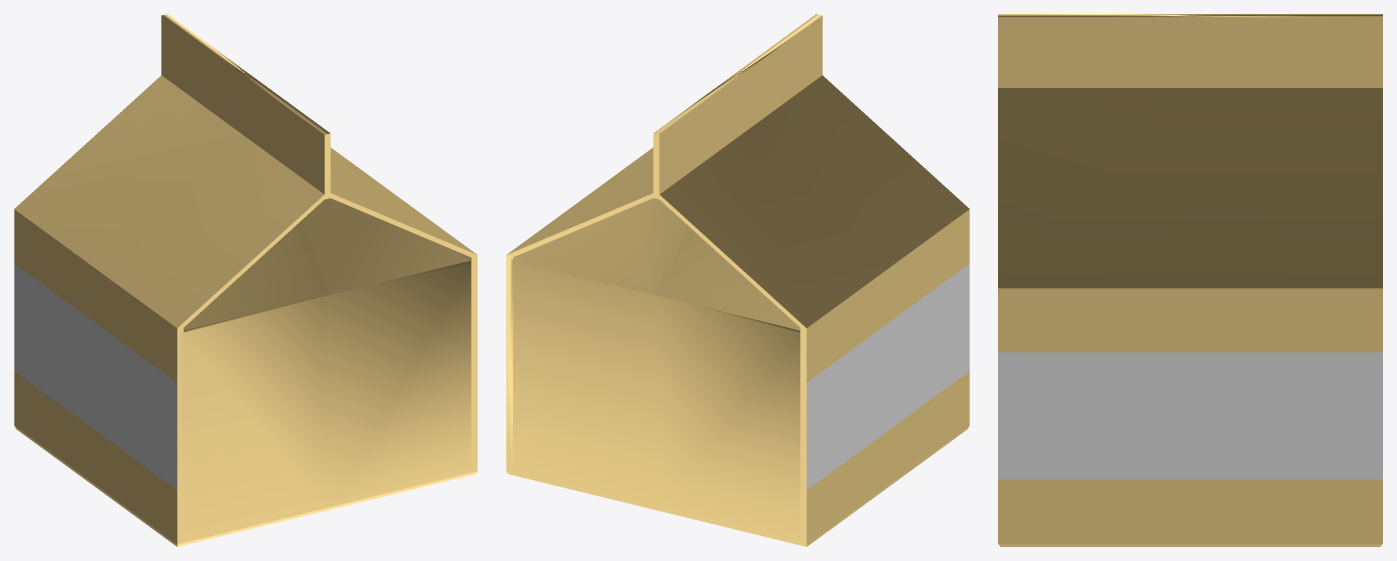
The model's file is Carton Milk.fbx.
The picture shows the model from 3 angles, left to right: view 1: azimuth 30°, elevation 25°; view 2: azimuth 150°, elevation 25°; view 3: azimuth 270°, elevation 25°; orthographic projection. The views are drawn at different scales.
Visible parts, largest first — view 1: Node 0; view 2: Node 0; view 3: Node 0.
Boxes of the visible parts, x1,y1,x2,y2 form: Node 0: (14,14,477,546); Node 0: (506,14,969,546); Node 0: (998,14,1382,546).
Bounding box in the file's own units: 0.0955 × 0.1146 × 0.0897.
